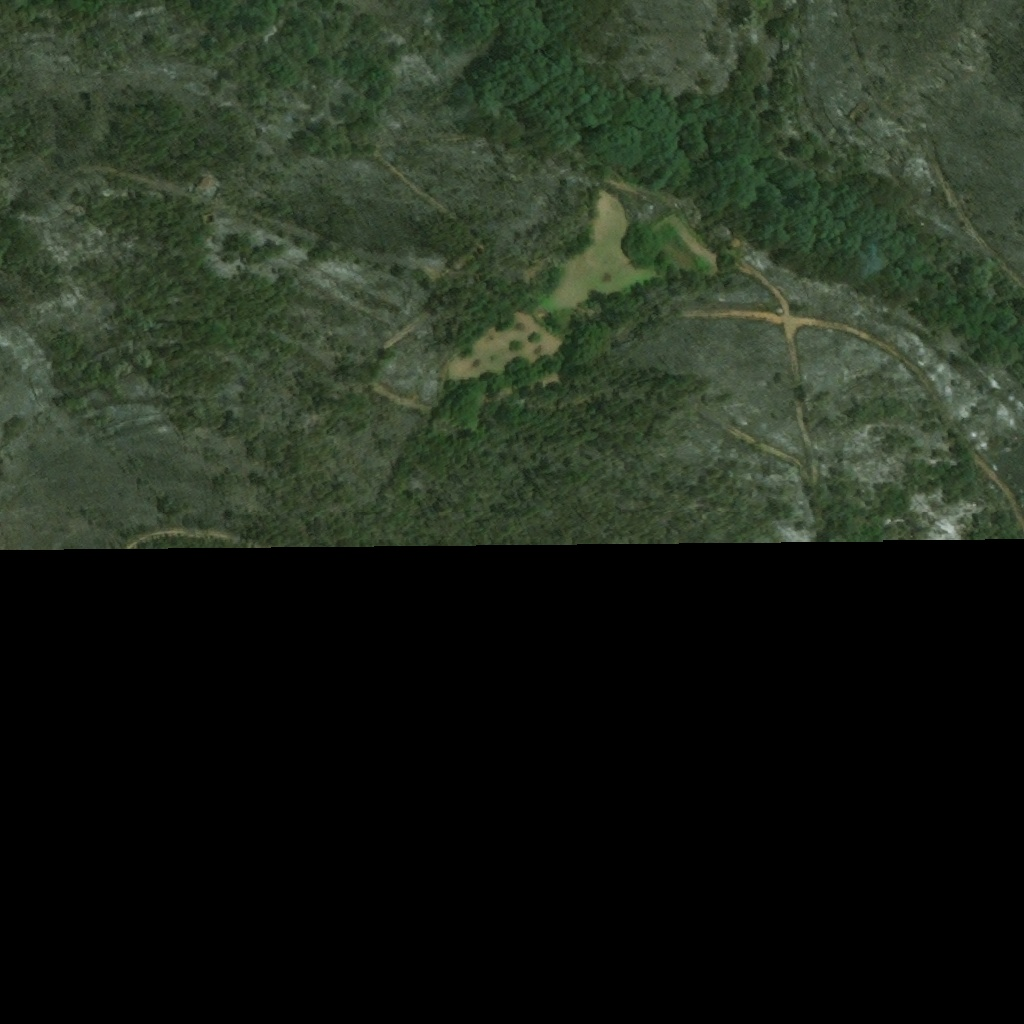0 no-damage: (196, 175, 213, 190)
